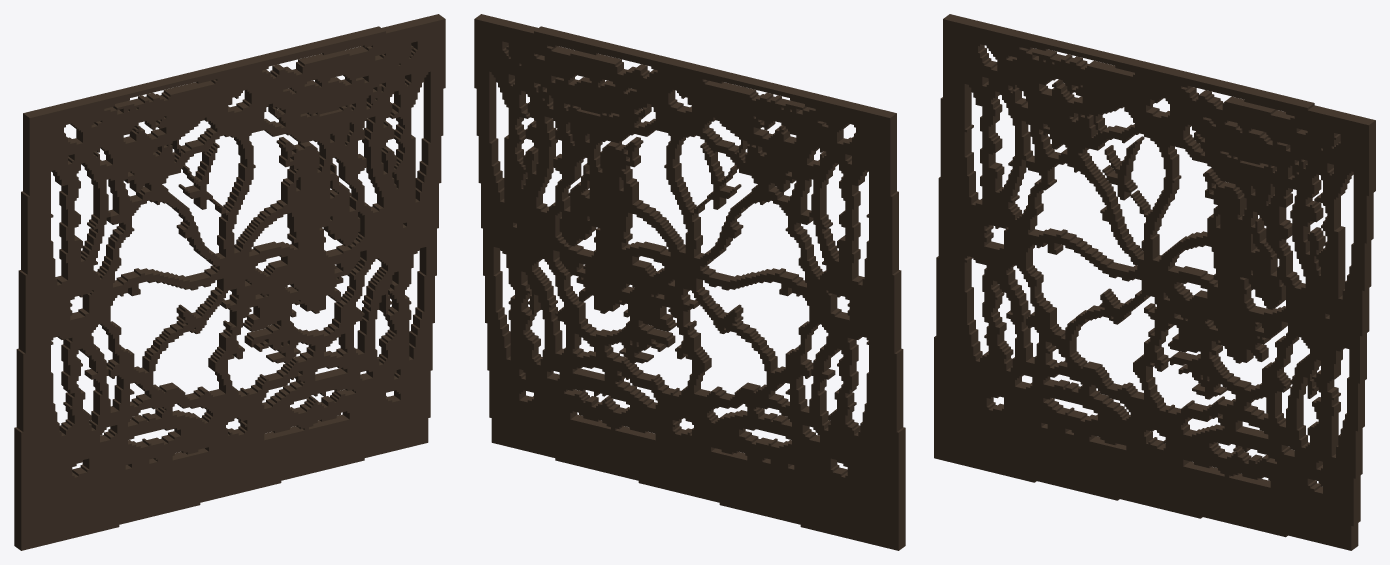
The model's file is lattice_window.glb.
The picture shows the model from 3 angles, left to right: view 1: azimuth 30°, elevation 25°; view 2: azimuth 150°, elevation 25°; view 3: azimuth 330°, elevation 25°; orthographic projection. The views are drawn at different scales.
Visible parts, largest first — view 1: Lattice_Silhouette; view 2: Lattice_Silhouette; view 3: Lattice_Silhouette.
Part boxes in pixels (<box>): Lattice_Silhouette: <box>14,14,445,550</box>; Lattice_Silhouette: <box>474,14,905,550</box>; Lattice_Silhouette: <box>934,14,1375,550</box>.
Size of the model in its own units: 1.5 by 1.46 by 0.0416.
